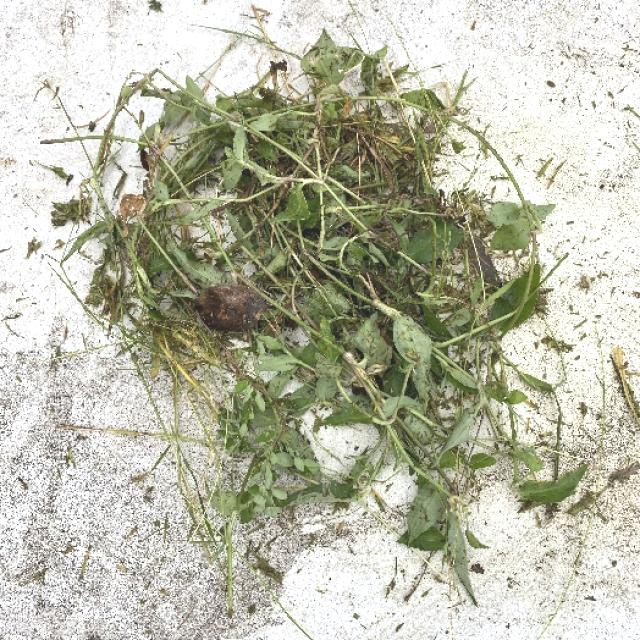organic: (57, 31, 559, 598), (80, 47, 532, 571)
